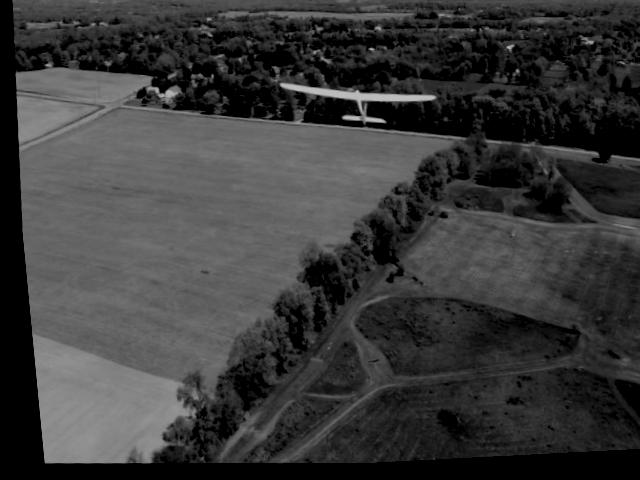hedef: (267, 67, 445, 153)
